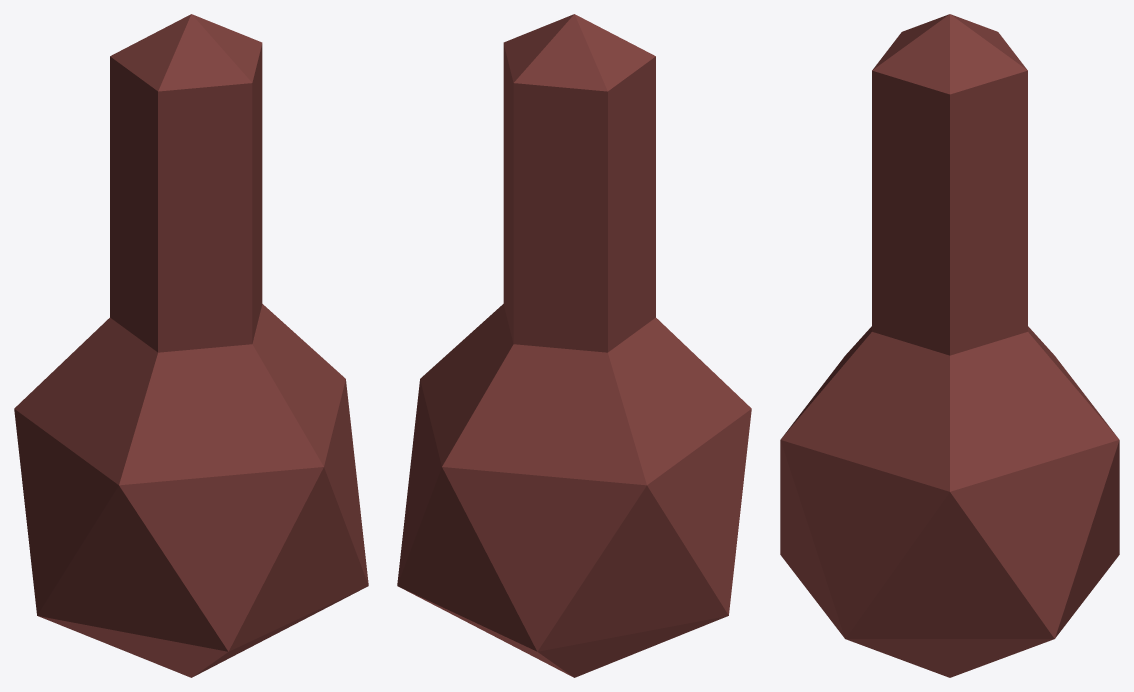
The model's file is rod_float.fbx.
3 renders of one model, left to right at view 1: azimuth 30°, elevation 25°; view 2: azimuth 150°, elevation 25°; view 3: azimuth 270°, elevation 25°, orthographic.
Visible parts, largest first — view 1: Икосфера; view 2: Икосфера; view 3: Икосфера.
Part boxes in pixels (x1,y1,x2,y2): Икосфера: [14, 14, 368, 677]; Икосфера: [397, 14, 751, 677]; Икосфера: [780, 14, 1119, 677].
Bounding box in the file's own units: 26.84 × 55.15 × 25.53.
